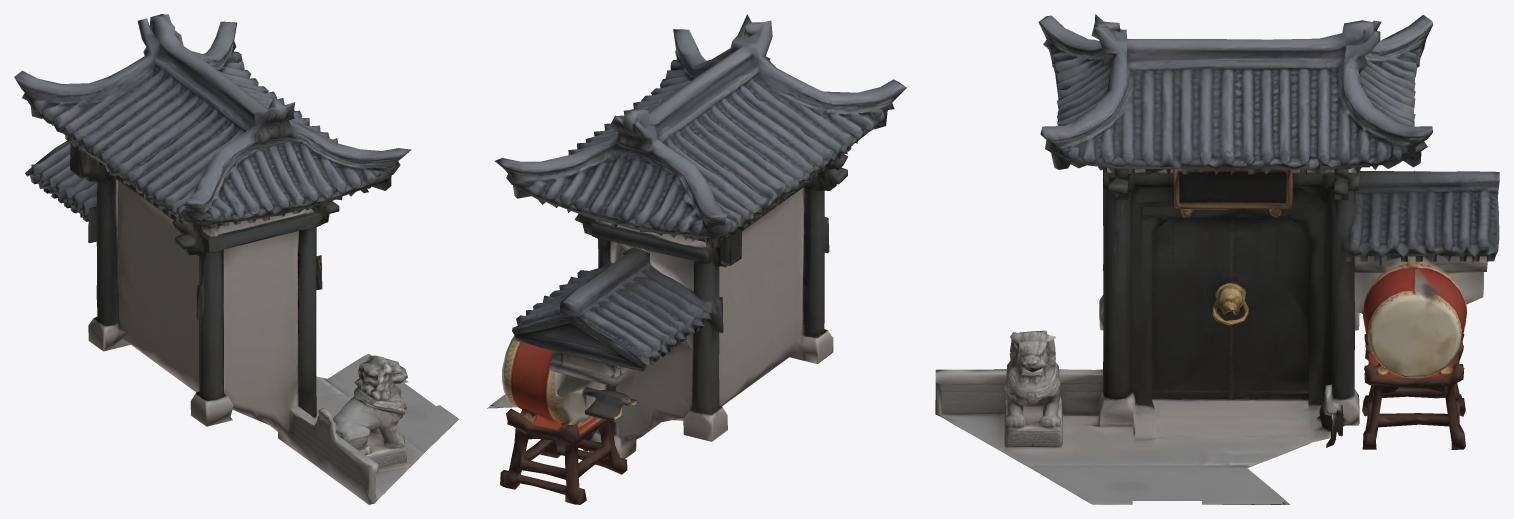
The model's file is court-yamen.glb.
3 views of the same model, side by side, from view 1: azimuth 30°, elevation 25°; view 2: azimuth 150°, elevation 25°; view 3: azimuth 270°, elevation 25° (orthographic). The views are drawn at different scales.
Visible parts, largest first — view 1: tripo_node_46582e44-aca7-4beb-b53a-394f3c5517fc; view 2: tripo_node_46582e44-aca7-4beb-b53a-394f3c5517fc; view 3: tripo_node_46582e44-aca7-4beb-b53a-394f3c5517fc.
Part boxes in pixels (left/top/right/bottom): tripo_node_46582e44-aca7-4beb-b53a-394f3c5517fc: left=14, top=14, right=458, bottom=504; tripo_node_46582e44-aca7-4beb-b53a-394f3c5517fc: left=487, top=14, right=906, bottom=504; tripo_node_46582e44-aca7-4beb-b53a-394f3c5517fc: left=935, top=14, right=1499, bottom=504.
Bounding box in the file's own units: 0.6639 × 0.765 × 1.
1 material, 1 textured.
